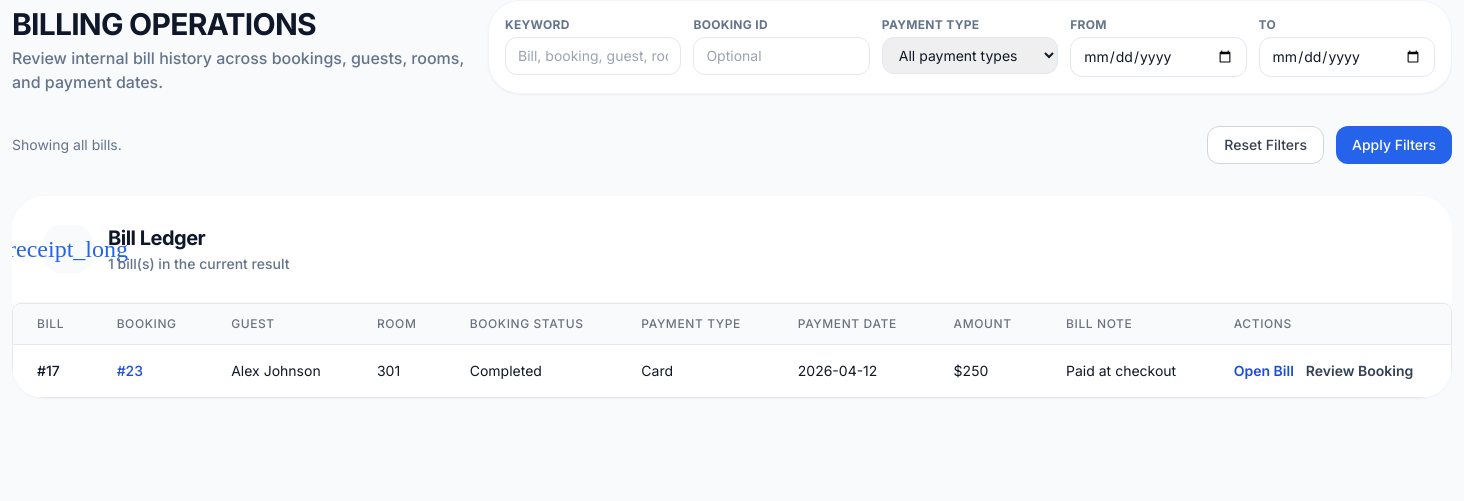
BillLedgerPage › shows review-booking links for bill results and validates invalid date filters
In the date field labelled "From": coordinates (1158, 57) [1070,37,1247,77], type "2026-04-20"
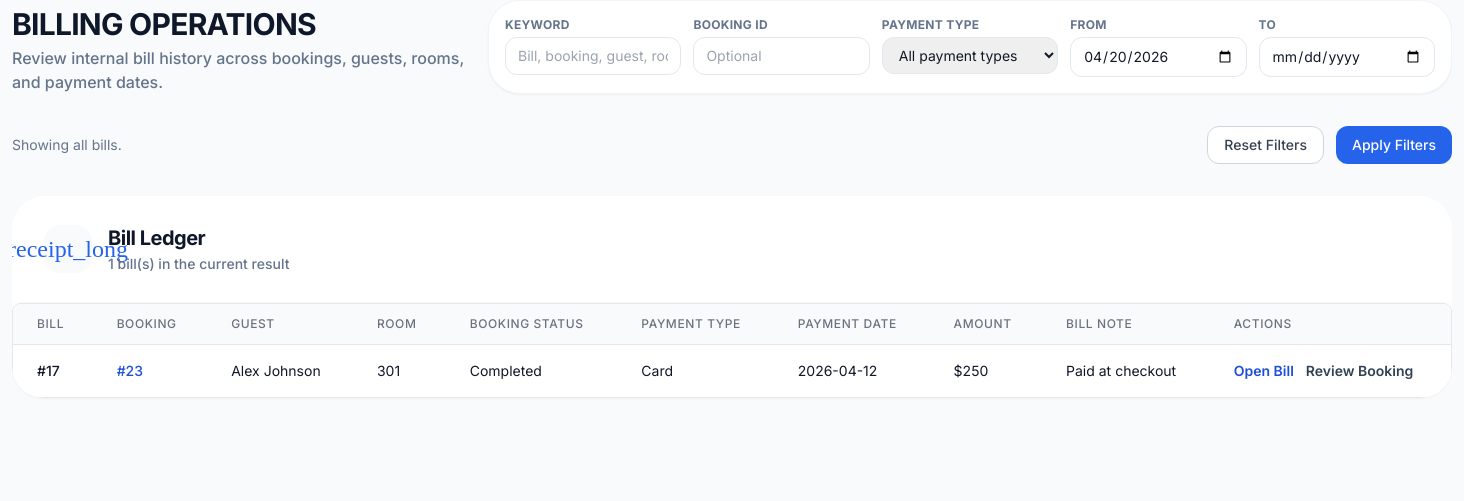
In the date field labelled "To": coordinates (1347, 57) [1259,37,1435,77], type "2026-04-10"
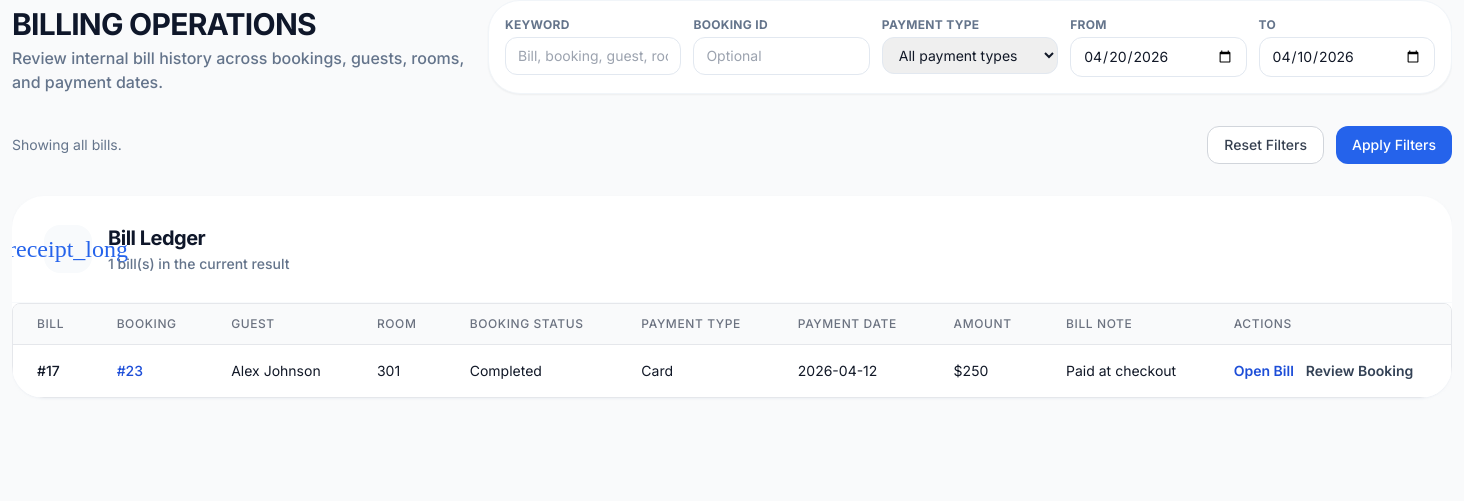
Click the button "Apply Filters": coordinates (1394, 145) [1336,126,1452,164]
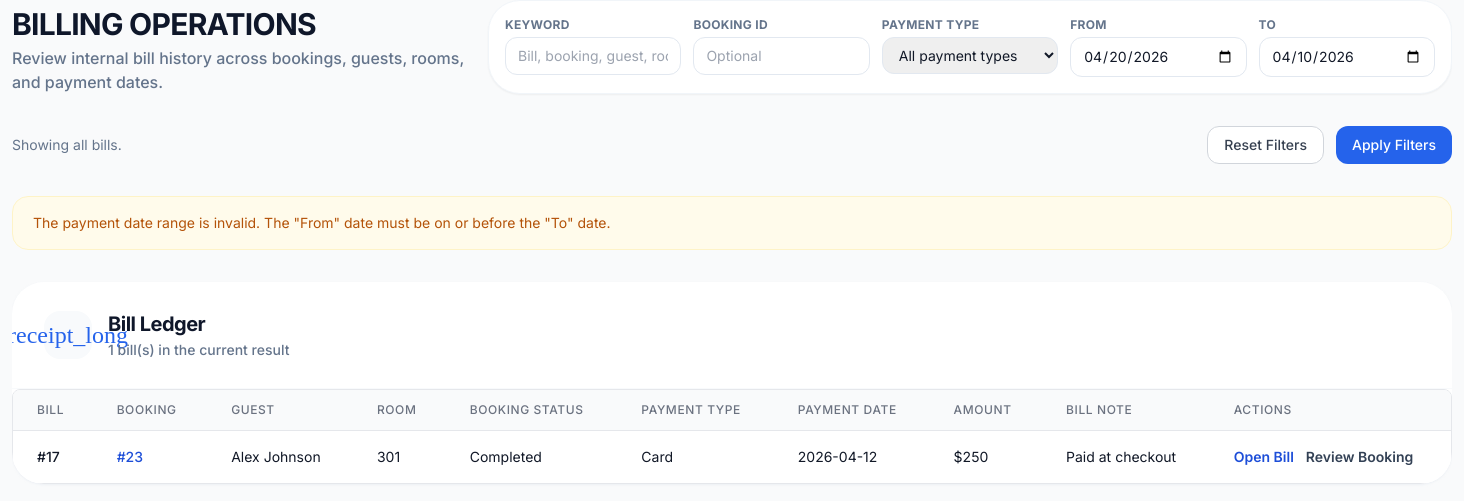
Now the text "payment date range is invalid" is shown, box [33,214,610,231]
